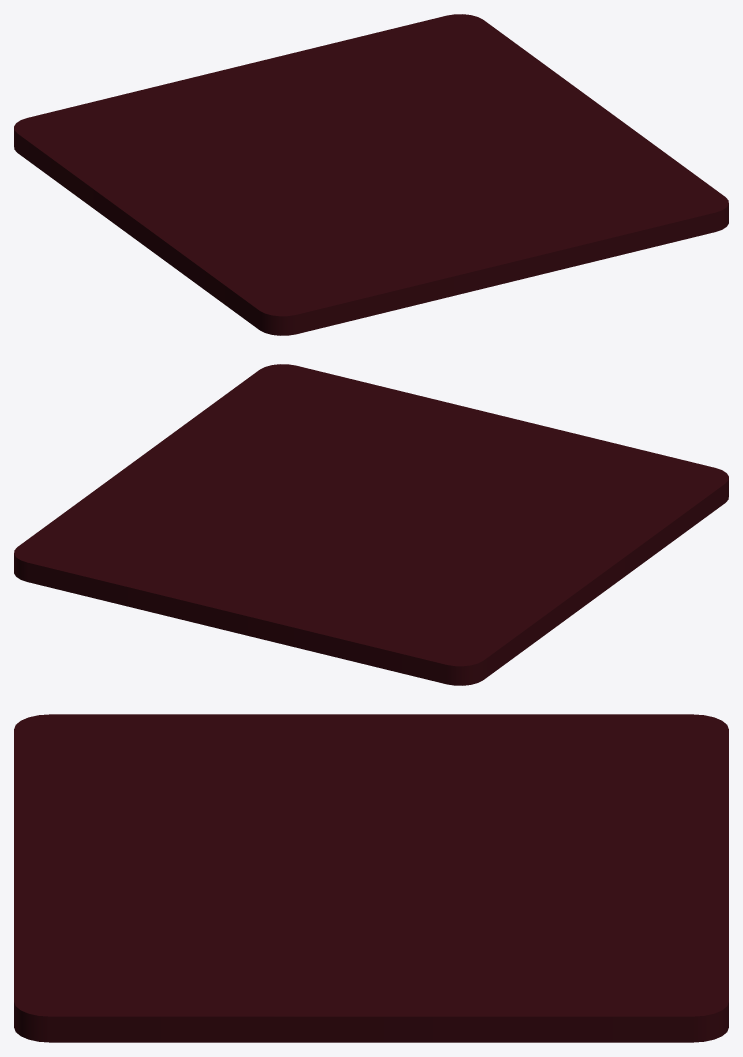
The model's file is tableTop.fbx.
The picture shows the model from 3 angles, top to bottom: view 1: azimuth 30°, elevation 25°; view 2: azimuth 150°, elevation 25°; view 3: azimuth 270°, elevation 25°; orthographic projection. The views are drawn at different scales.
Parts seen in each view (by area): view 1: TableTop; view 2: TableTop; view 3: TableTop.
Boxes of the visible parts, left/top/right/bottom form: TableTop: left=14, top=14, right=728, bottom=335; TableTop: left=14, top=364, right=728, bottom=685; TableTop: left=14, top=714, right=728, bottom=1042.
Size of the model in its own units: 100 by 4 by 100.
